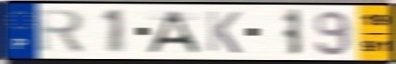1: (99, 8, 127, 56), (281, 7, 305, 58)
9: (312, 9, 353, 57)
A: (144, 9, 203, 55)
K: (205, 9, 243, 55)
R: (36, 7, 88, 55)
